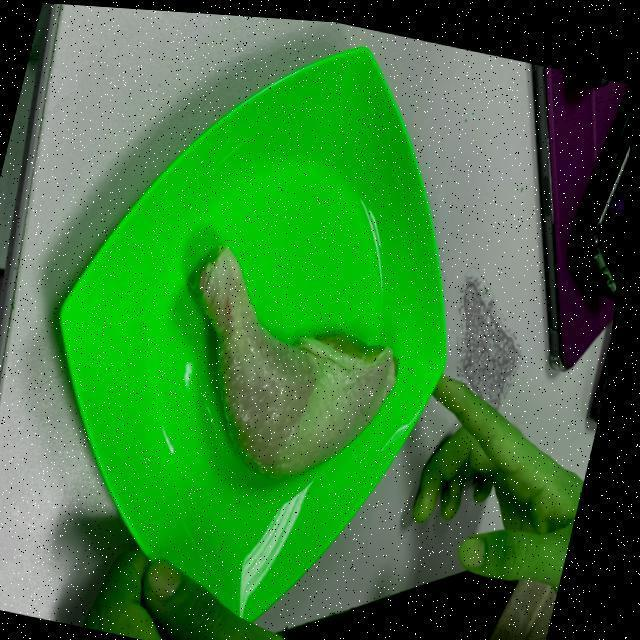quater: (186, 247, 400, 473)
